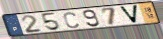2: (21, 14, 44, 34)
5: (40, 12, 62, 31)
7: (100, 6, 119, 27)
9: (83, 9, 101, 27)
C: (62, 12, 80, 29)
V: (118, 4, 140, 24)
